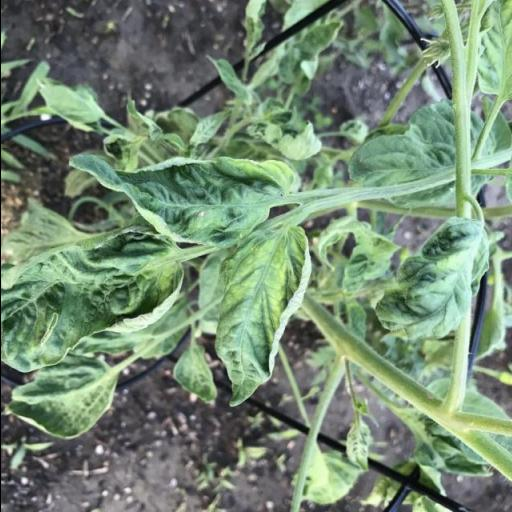Mosaic Virus: (63, 154, 303, 246), (214, 222, 312, 410), (374, 211, 495, 342)
